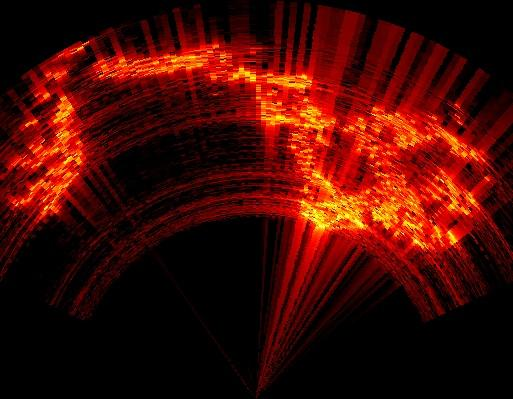shipwreck: (93, 45, 341, 194), (300, 108, 482, 248), (0, 94, 84, 220)
